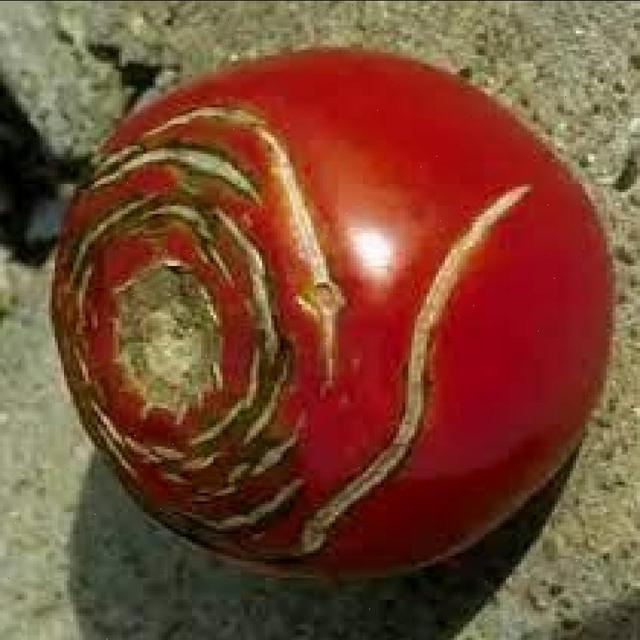Cracking Fruit: (124, 207, 273, 292)
